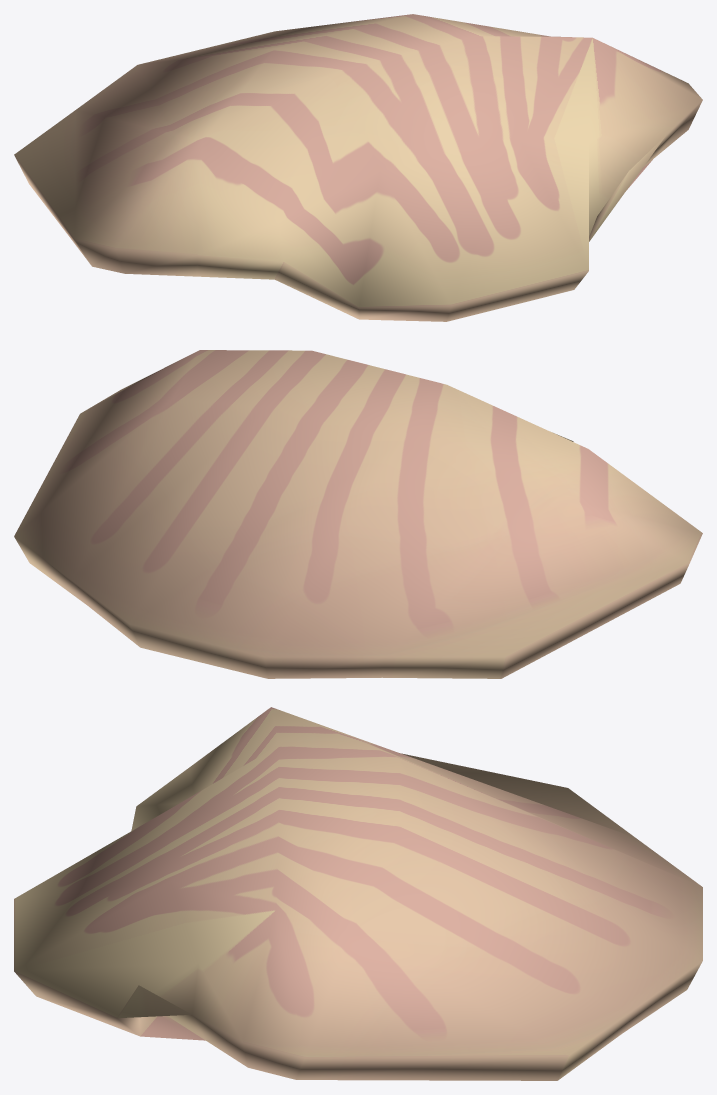
The model's file is Concha.fbx.
The picture shows the model from 3 angles, top to bottom: view 1: azimuth 30°, elevation 25°; view 2: azimuth 150°, elevation 25°; view 3: azimuth 270°, elevation 25°; orthographic projection. The views are drawn at different scales.
Parts seen in each view (by area): view 1: Plane; view 2: Plane; view 3: Plane.
Boxes of the visible parts, left/top/right/bottom form: Plane: left=14, top=14, right=702, bottom=321; Plane: left=14, top=350, right=702, bottom=678; Plane: left=14, top=707, right=702, bottom=1080.
Size of the model in its own units: 246 by 73.6 by 217.
1 material, 1 textured.
